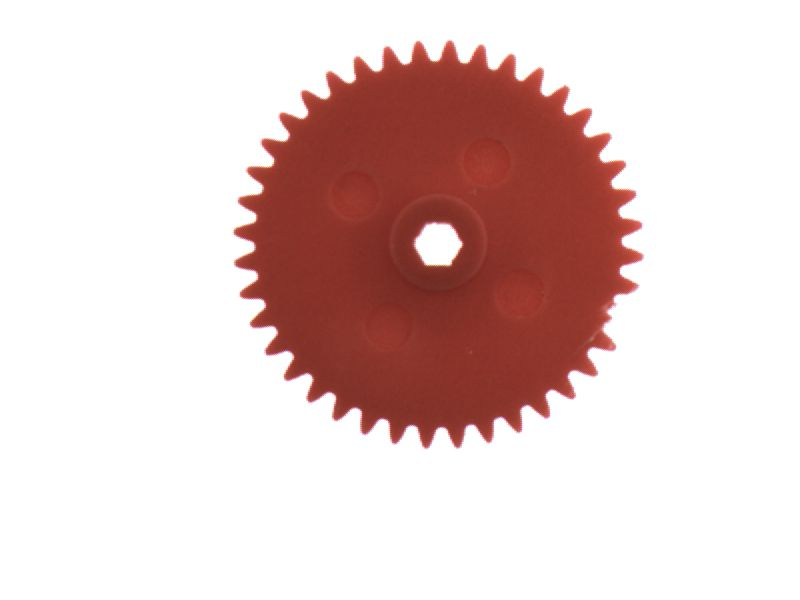defect_lack: (591, 285, 650, 341)
